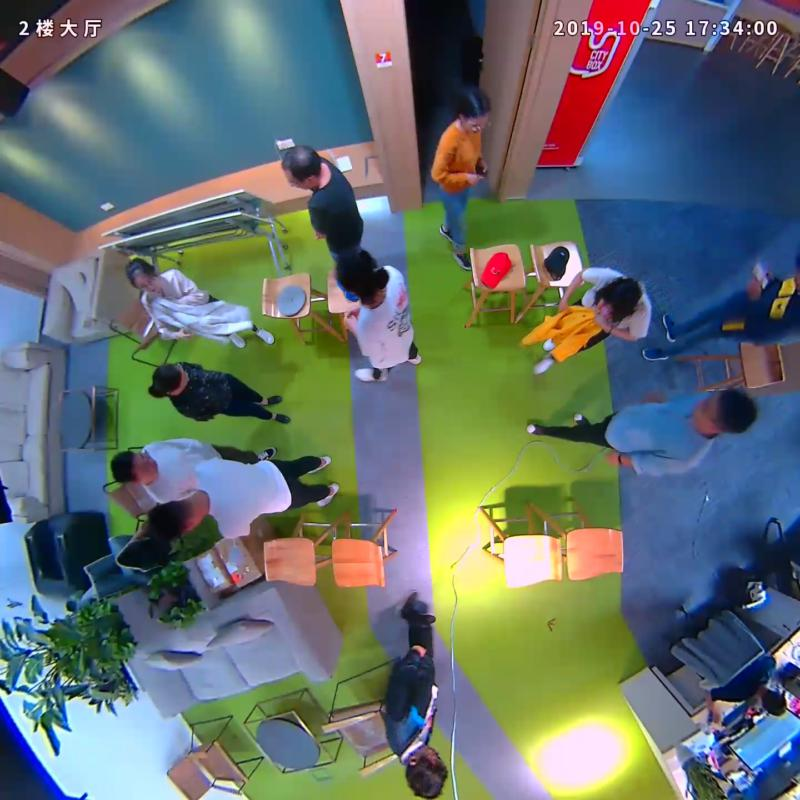head: (691, 386, 756, 436), (405, 745, 450, 800), (148, 499, 201, 542), (334, 249, 380, 296), (281, 146, 323, 189), (456, 83, 491, 134), (111, 450, 158, 485), (601, 278, 642, 313), (124, 258, 162, 293), (151, 362, 186, 393)
